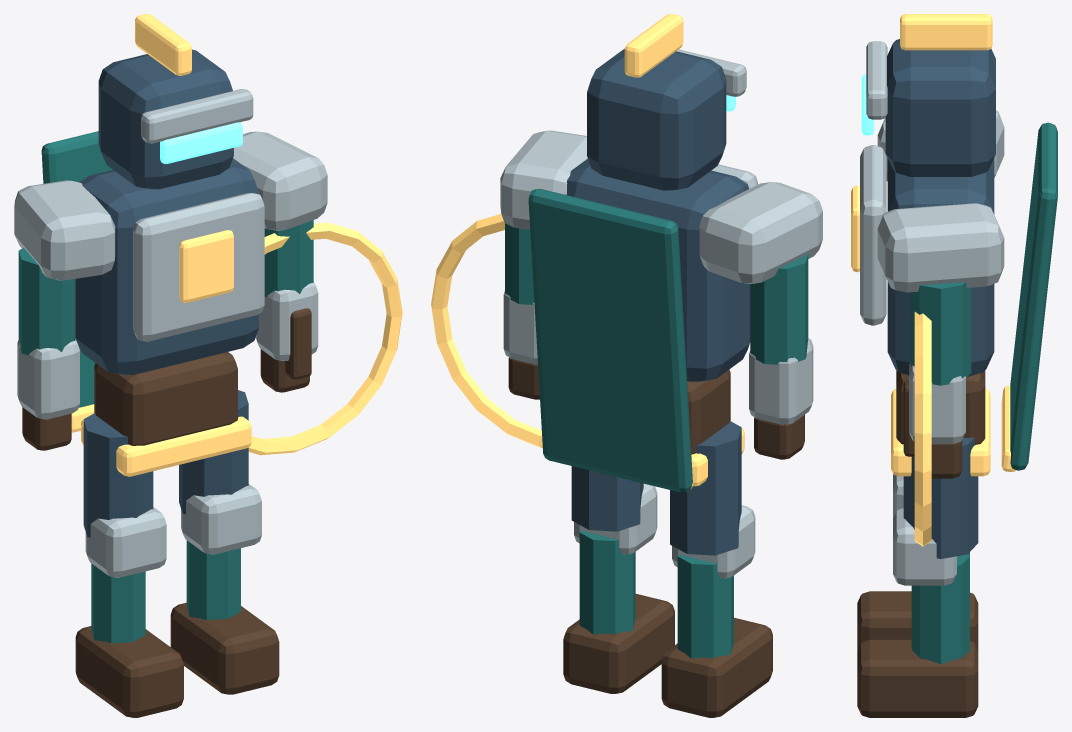
The model's file is sunward-ranger.glb.
3 renders of one model, left to right at view 1: azimuth 30°, elevation 25°; view 2: azimuth 150°, elevation 25°; view 3: azimuth 270°, elevation 25°, orthographic. The views are drawn at different scales.
Visible parts, largest first — view 1: Chest_Core, Chest_Plate, Helmet, Abdomen, Pauldron_L, Boot_L, Boot_R, SunBow, Pauldron_R, Thigh_L, UpperArm_L, Knee_L (+16 smaller); view 2: Cloak, Helmet, Chest_Core, Pauldron_L, Boot_L, Boot_R, Thigh_L, UpperArm_L, Shin_L, Shin_R, Pauldron_R, SunBow (+11 smaller); view 3: Helmet, Pauldron_R, Cloak, Boot_R, Chest_Core, UpperArm_R, Shin_R, Thigh_R, Chest_Plate, SunBow, Helmet_Crest, Boot_L (+12 smaller).
Part boxes in pixels (x1,y1,x2,y2): Chest_Core: (75, 158, 258, 375); Chest_Plate: (133, 193, 264, 341); Helmet: (98, 49, 233, 189); Abdomen: (94, 352, 237, 445); Pauldron_L: (14, 180, 115, 280); Boot_L: (75, 626, 183, 717); Boot_R: (170, 602, 279, 694); SunBow: (248, 222, 402, 455); Pauldron_R: (233, 131, 327, 230); Thigh_L: (83, 413, 153, 537); UpperArm_L: (18, 247, 75, 355); Knee_L: (85, 507, 166, 577); Cloak: (528, 189, 692, 492); Helmet: (587, 48, 726, 190); Chest_Core: (566, 158, 750, 381); Pauldron_L: (699, 182, 822, 283); Boot_L: (661, 617, 772, 717); Boot_R: (563, 594, 674, 693); Thigh_L: (670, 421, 741, 555); UpperArm_L: (750, 254, 808, 364); Shin_L: (677, 554, 733, 658); Shin_R: (579, 530, 635, 634); Pauldron_R: (500, 130, 587, 229); SunBow: (431, 214, 542, 448); Helmet: (885, 39, 995, 176); Pauldron_R: (877, 203, 1004, 292); Cloak: (1010, 122, 1057, 470); Boot_R: (857, 639, 978, 717); Chest_Core: (887, 158, 994, 376); UpperArm_R: (910, 282, 971, 385); Shin_R: (911, 554, 969, 664); Thigh_R: (903, 437, 978, 558); Chest_Plate: (860, 145, 886, 325); SunBow: (914, 312, 931, 546); Helmet_Crest: (900, 14, 992, 50); Boot_L: (857, 591, 978, 650).
Bounding box in the file's own units: 1.25 × 2.07 × 0.5813.
